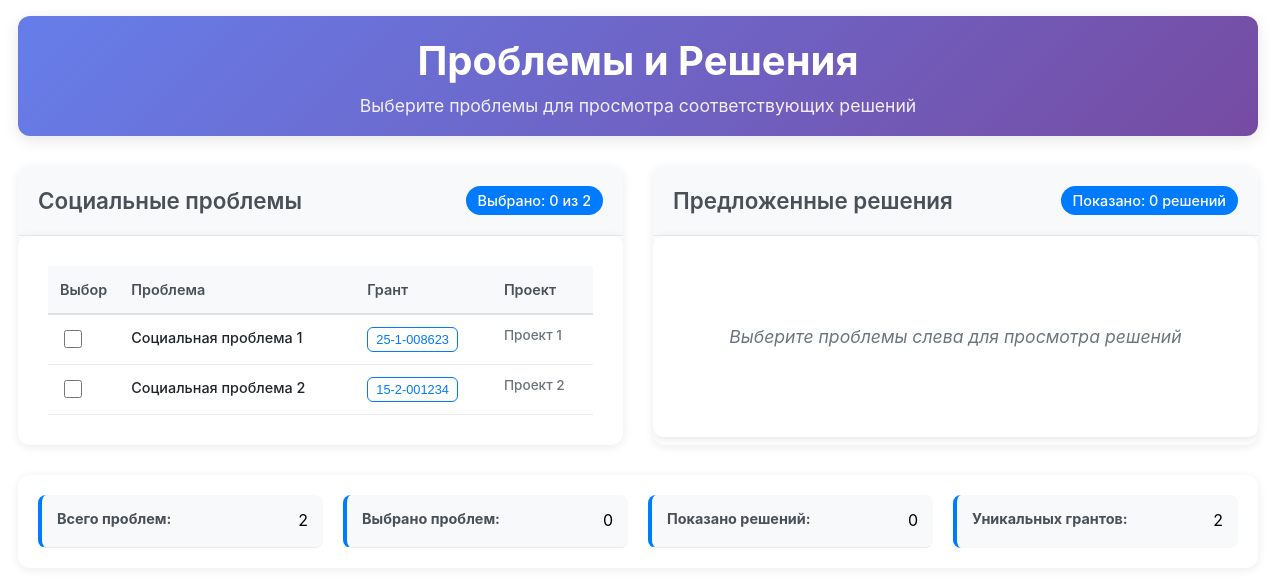
it: ProblemsSolutionsPage › показывает информацию о выбранных проблемах
Check: the text "Выбрано: 0 из 2" is shown, box [466,186,603,215]
Click the checkbox next to "Социальная проблема 1" at point(73, 339), box [64,330,82,348]
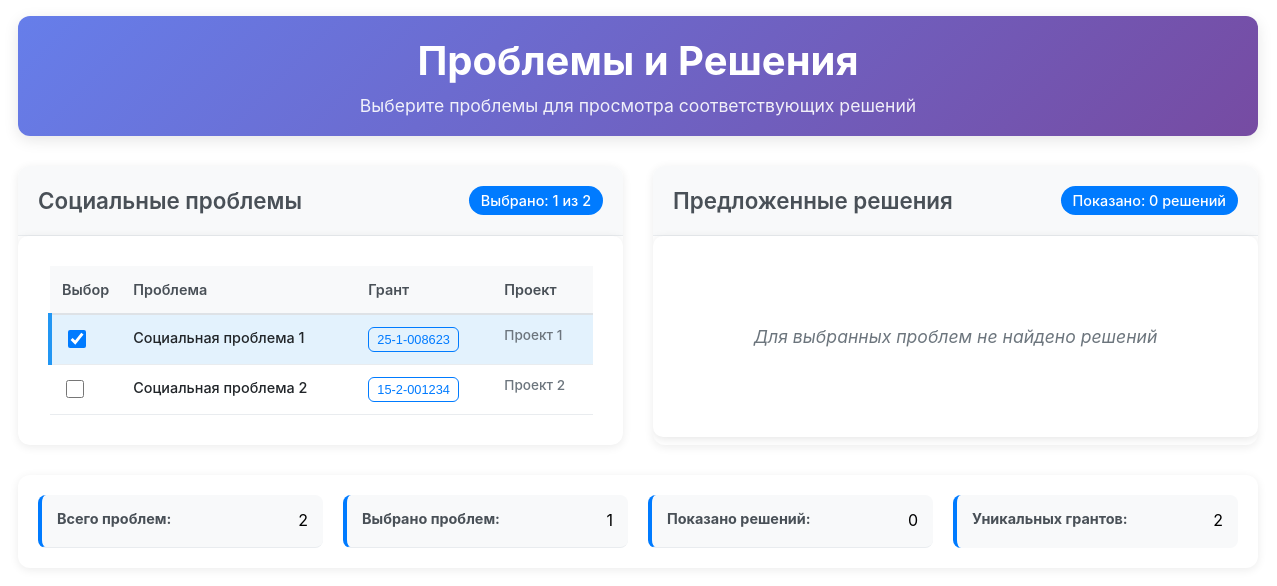
Check: the text "Выбрано: 1 из 2" is shown, box [469,186,603,215]
